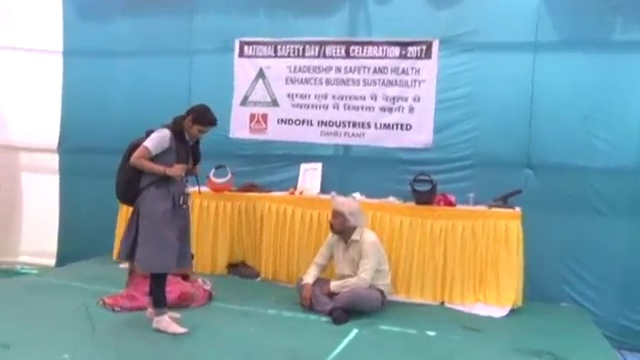helmet_off: (176, 104, 218, 144), (328, 204, 363, 237)
person: (115, 103, 218, 337), (299, 202, 391, 323)
